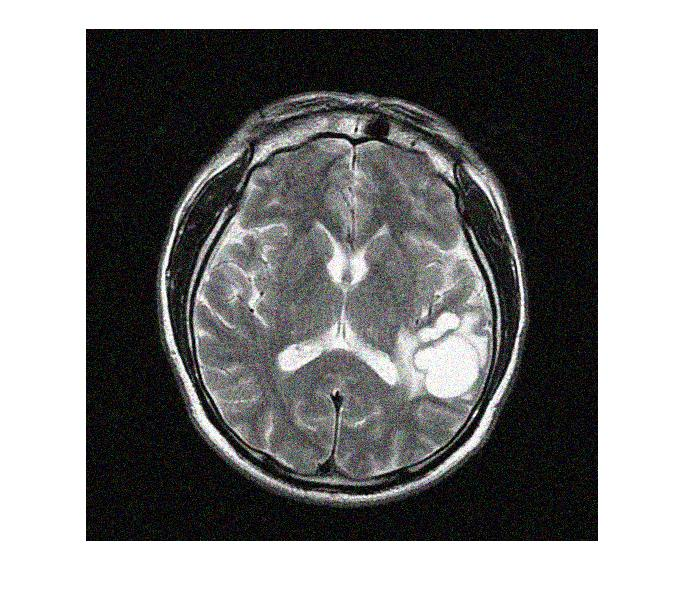Brain_Cancer: (407, 304, 495, 404)
